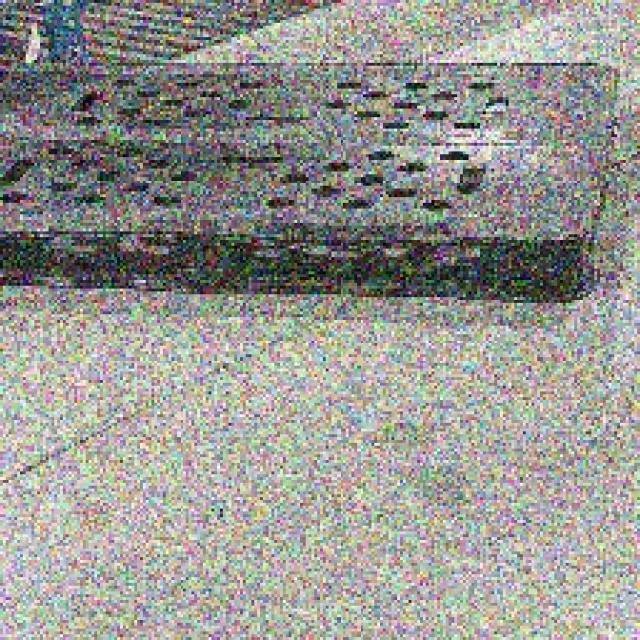igps: (0, 51, 629, 312)
